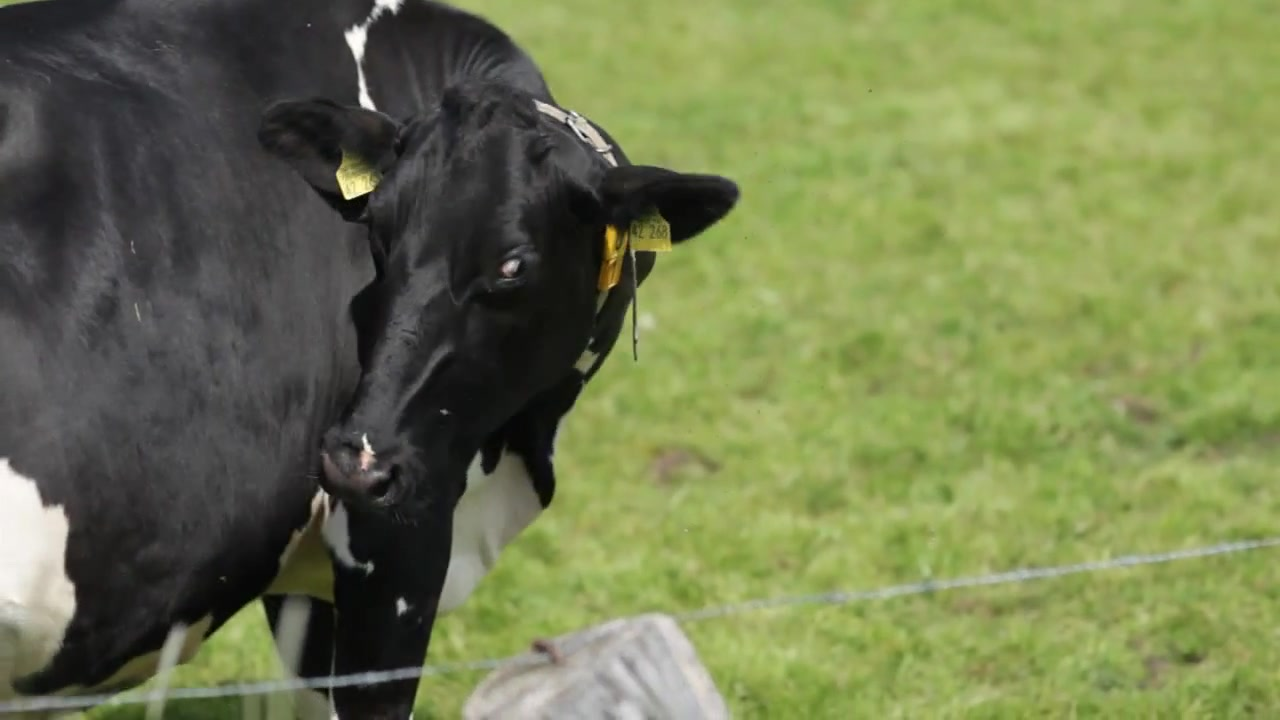cow: (1, 1, 746, 720)
